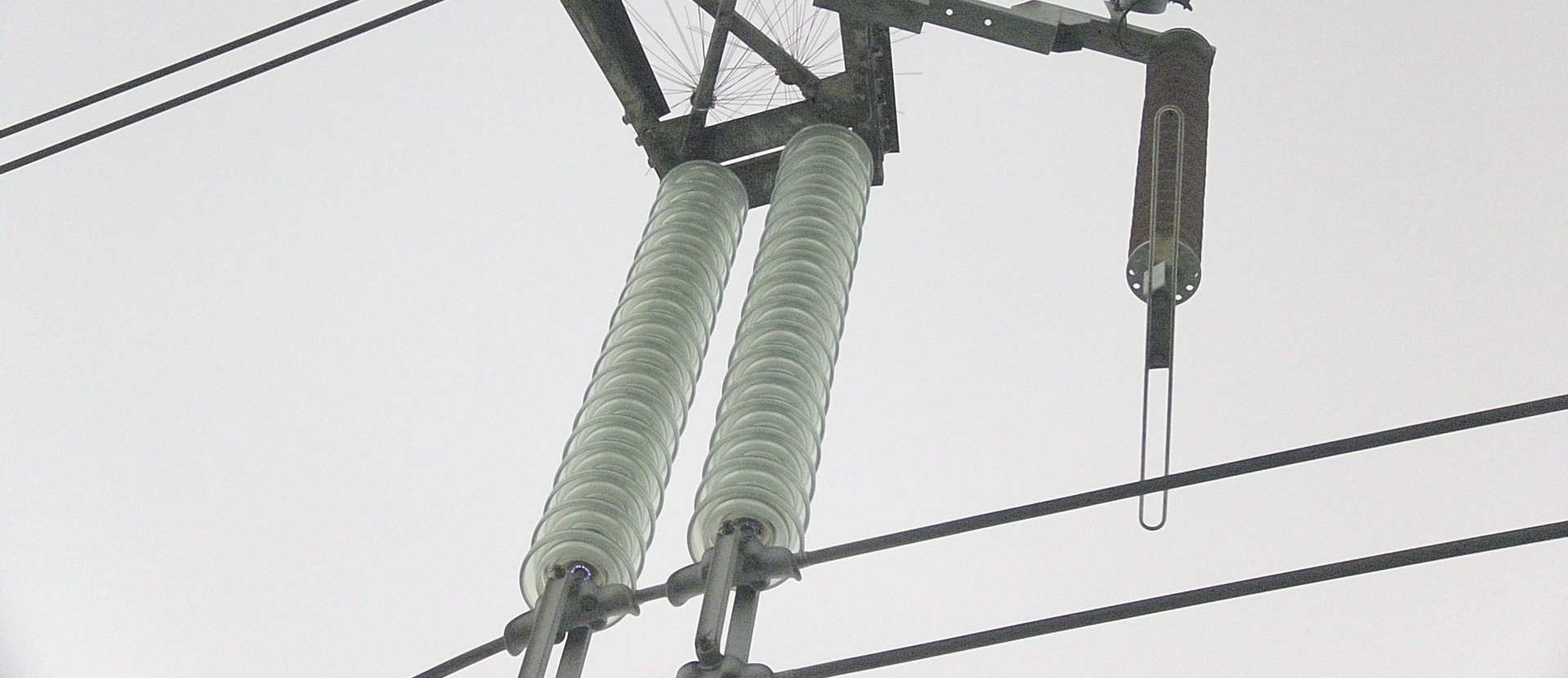绝缘子污闪: (568, 562, 592, 583), (745, 520, 749, 528)
